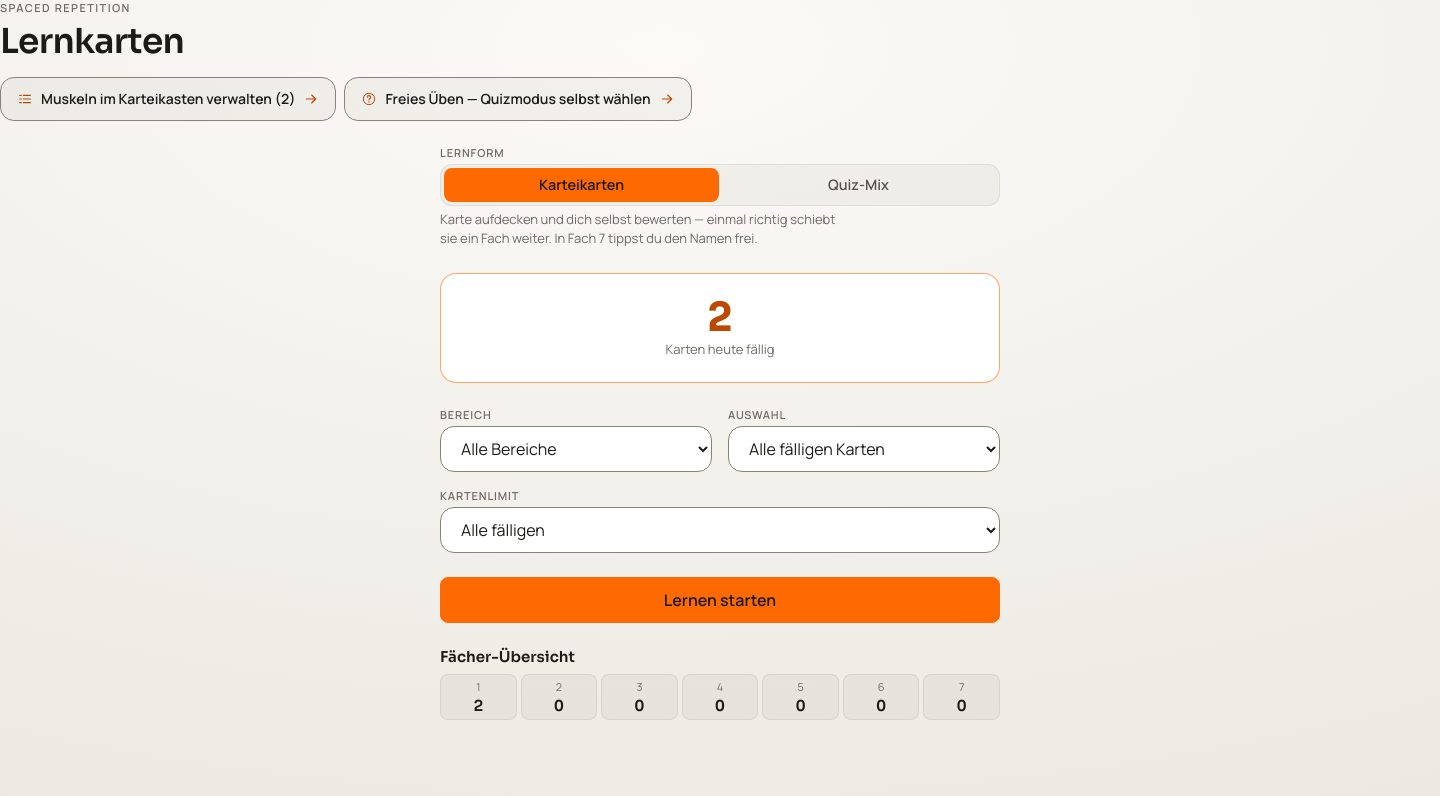
Test: „Unsicher" wird sichtbar zurückgestellt › zählt Zurückstellungen sichtbar mit, statt den Zähler stumm stehen zu lassen
Click the button "Lernen starten". click: x=720, y=600
box: [440, 577, 1000, 623]
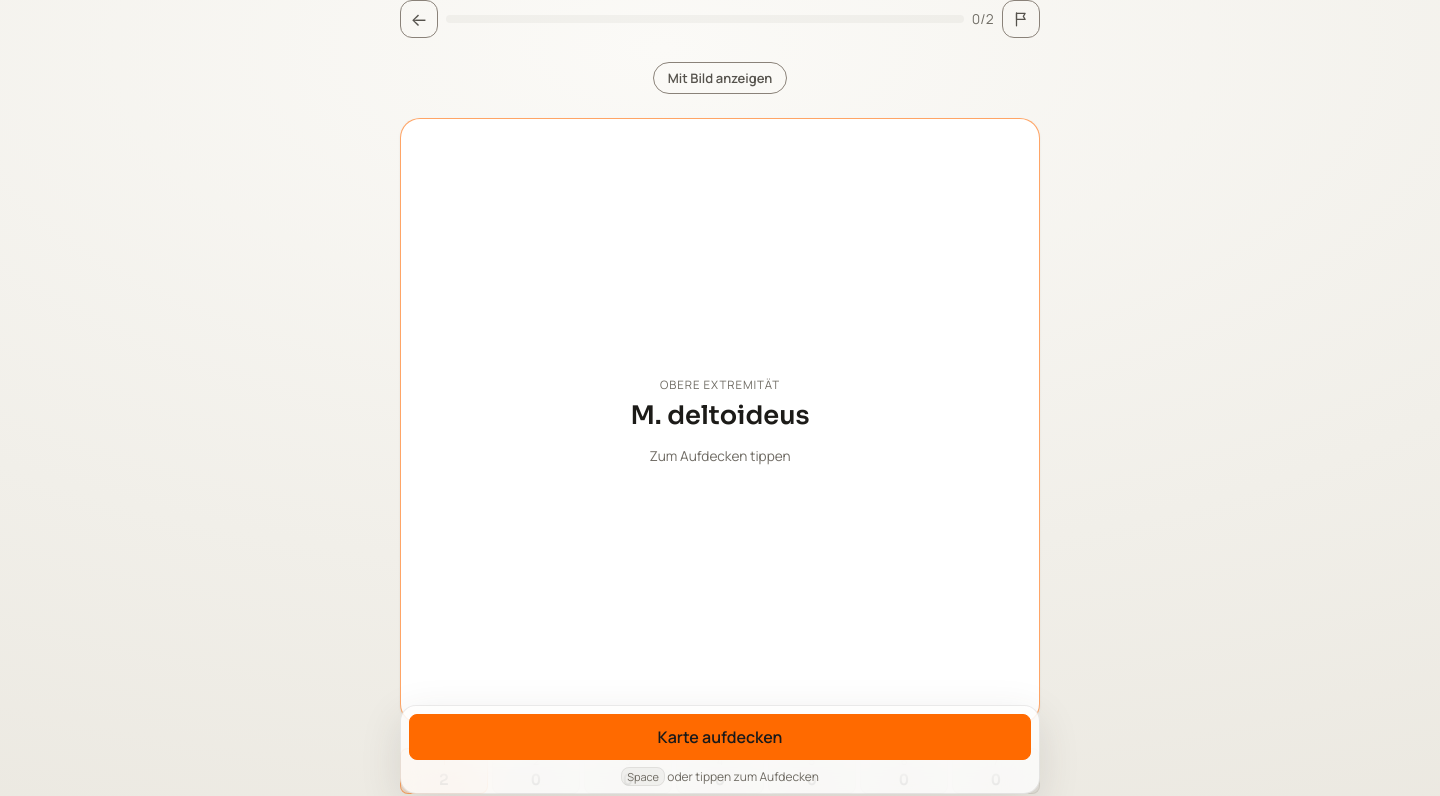
Check: the element named "Fortschritt" does not show "zurückgestellt", box [446, 10, 994, 28]
Check: the element named "Fortschritt" reads "0/2", box [446, 10, 994, 28]
Click the button "Karte aufdecken". click: x=720, y=737
box: [409, 714, 1031, 760]
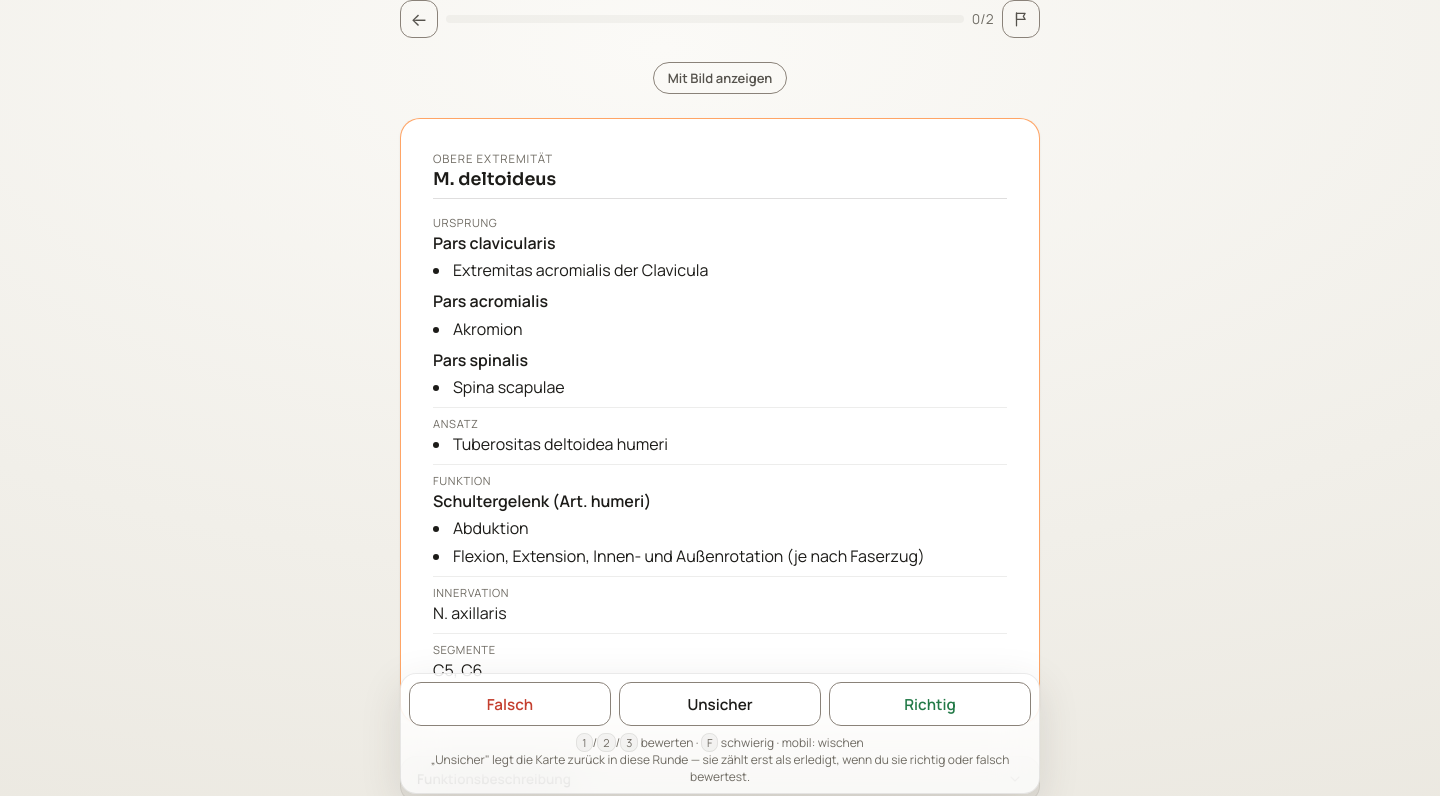
Click the button "Unsicher". click: x=720, y=704
box: [619, 682, 821, 726]
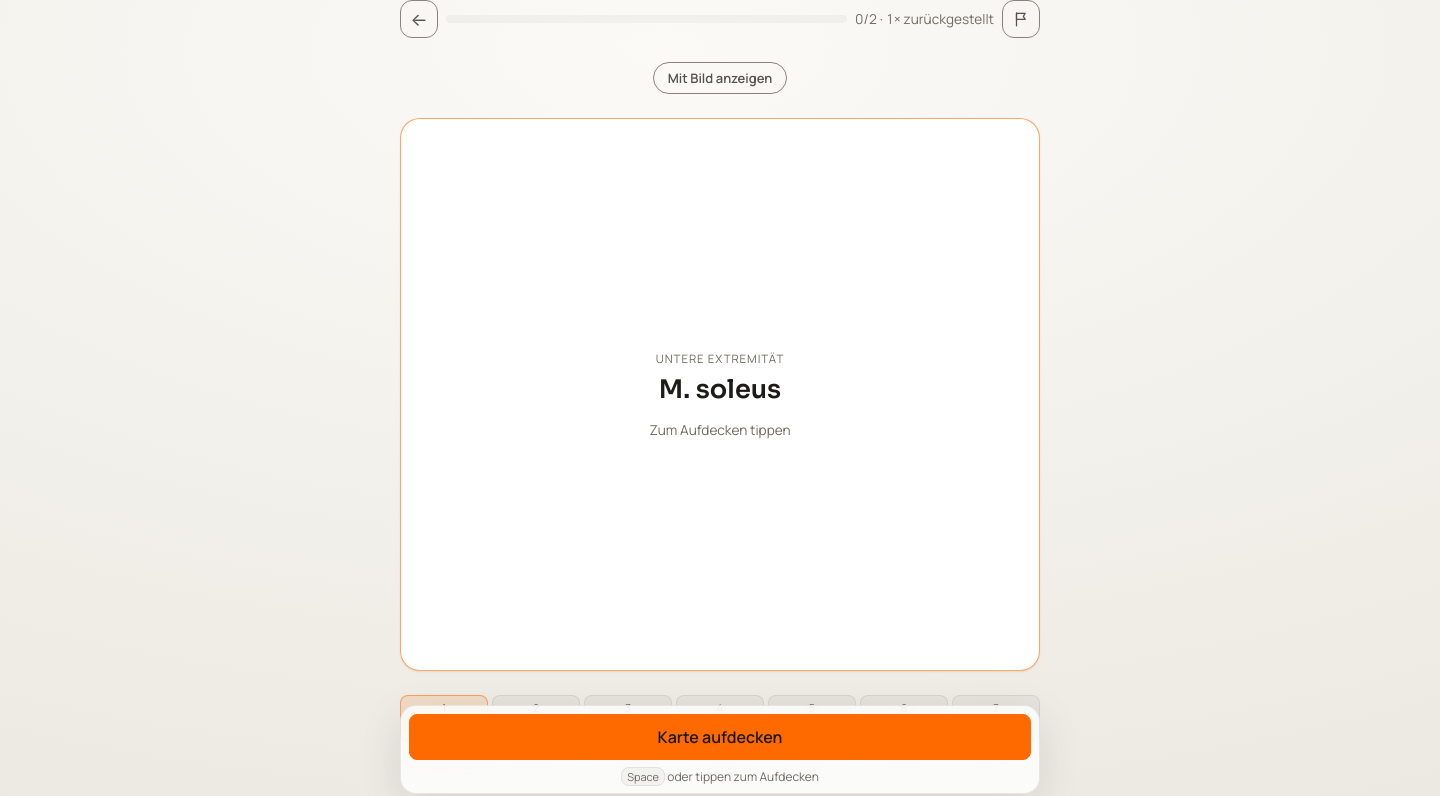
Check: the element named "Fortschritt" shows "1× zurückgestellt", box [446, 10, 994, 28]
Click the button "Karte aufdecken". click: x=720, y=737
box: [409, 714, 1031, 760]
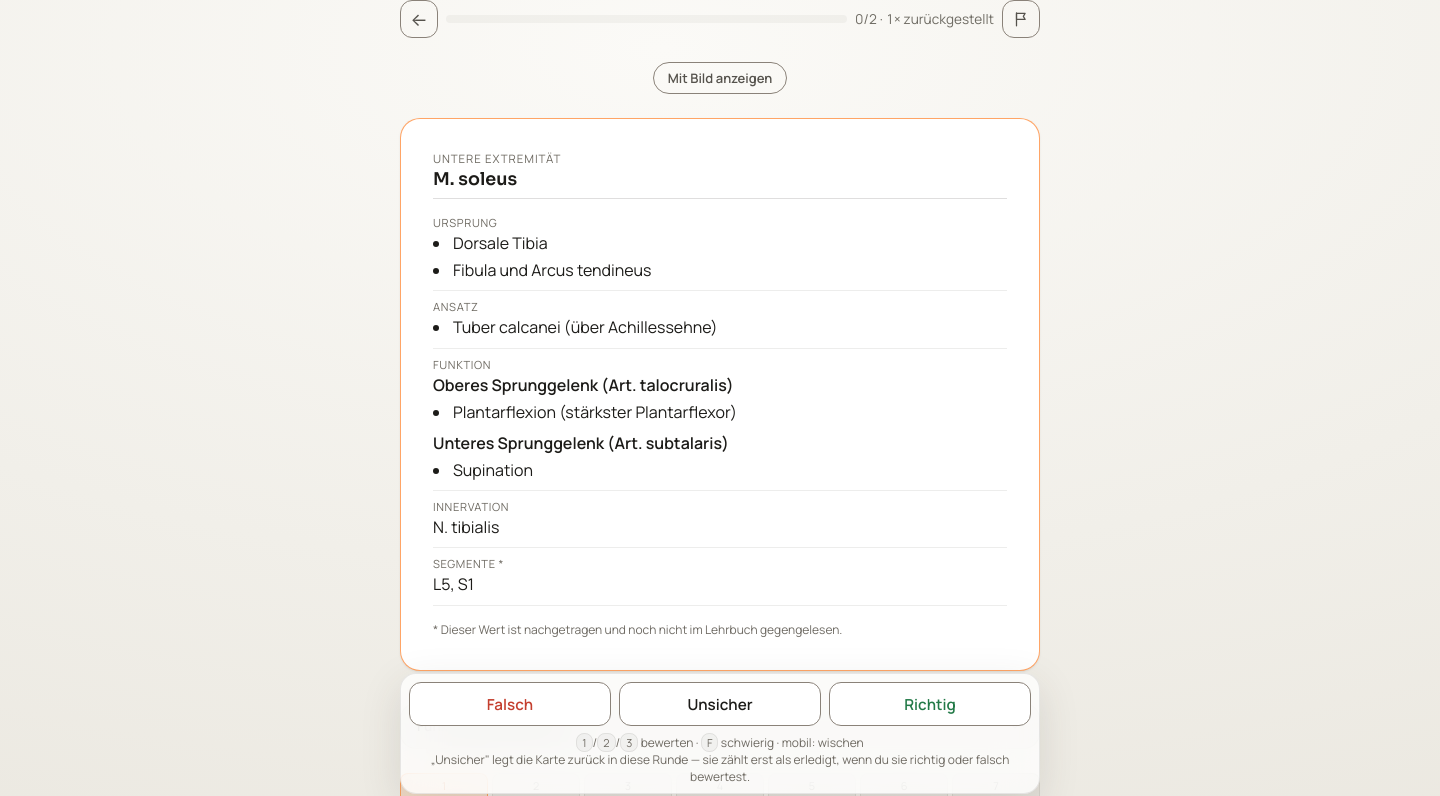
Click the button "Unsicher". click: x=720, y=704
box: [619, 682, 821, 726]
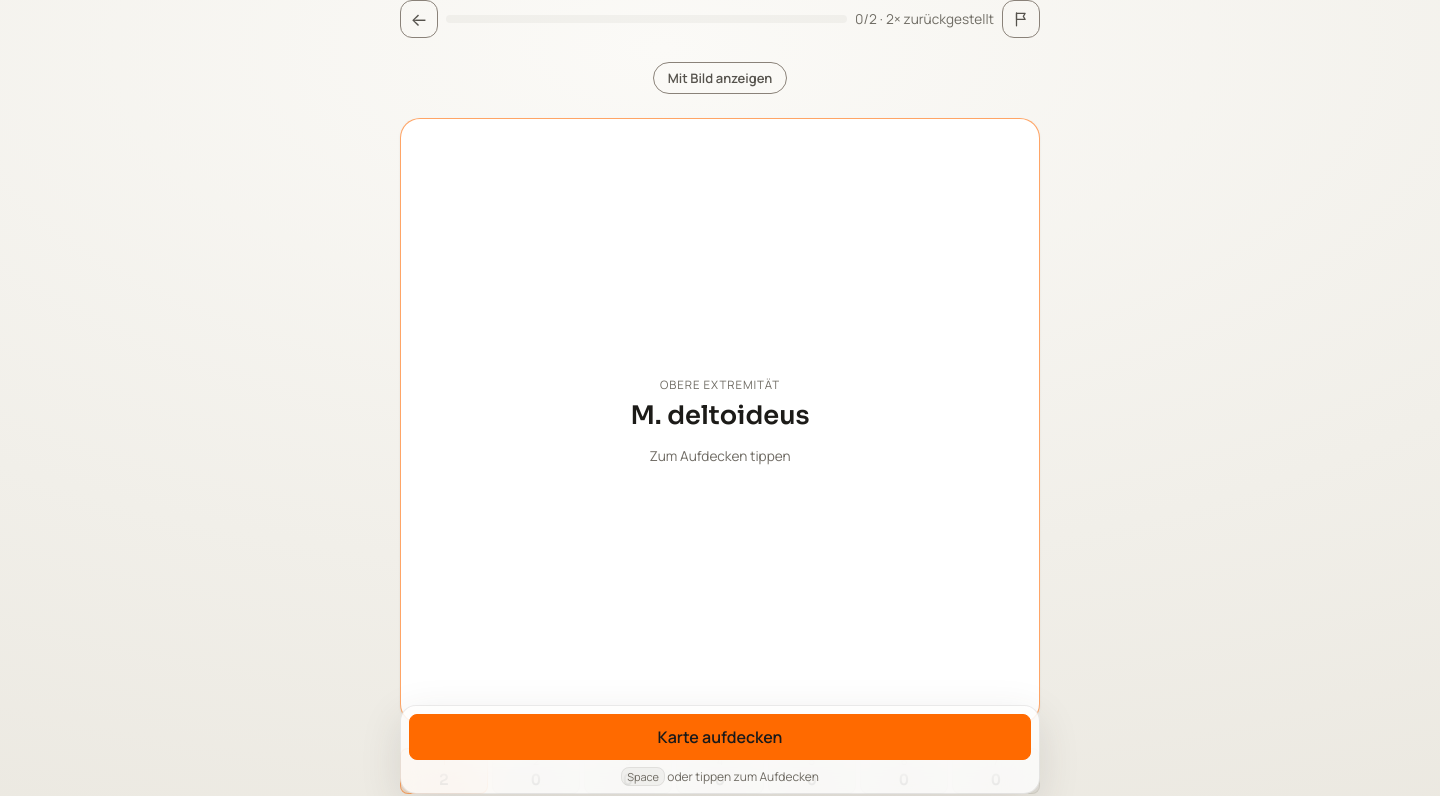
Check: the element named "Fortschritt" shows "0/2", box [446, 10, 994, 28]
Check: the element named "Fortschritt" shows "2× zurückgestellt", box [446, 10, 994, 28]
